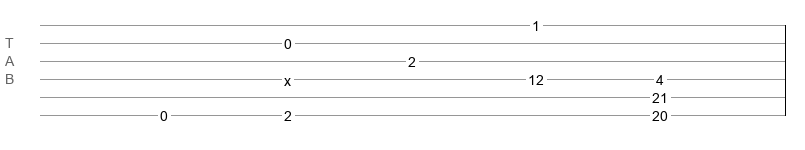0: (160, 108, 168, 118), (284, 36, 292, 46)
1: (532, 18, 540, 28)
12: (528, 72, 544, 82)
2: (284, 108, 292, 118), (408, 54, 416, 64)
20: (652, 108, 668, 118)
21: (652, 90, 668, 100)
4: (656, 72, 664, 82)
x: (284, 73, 291, 81)
